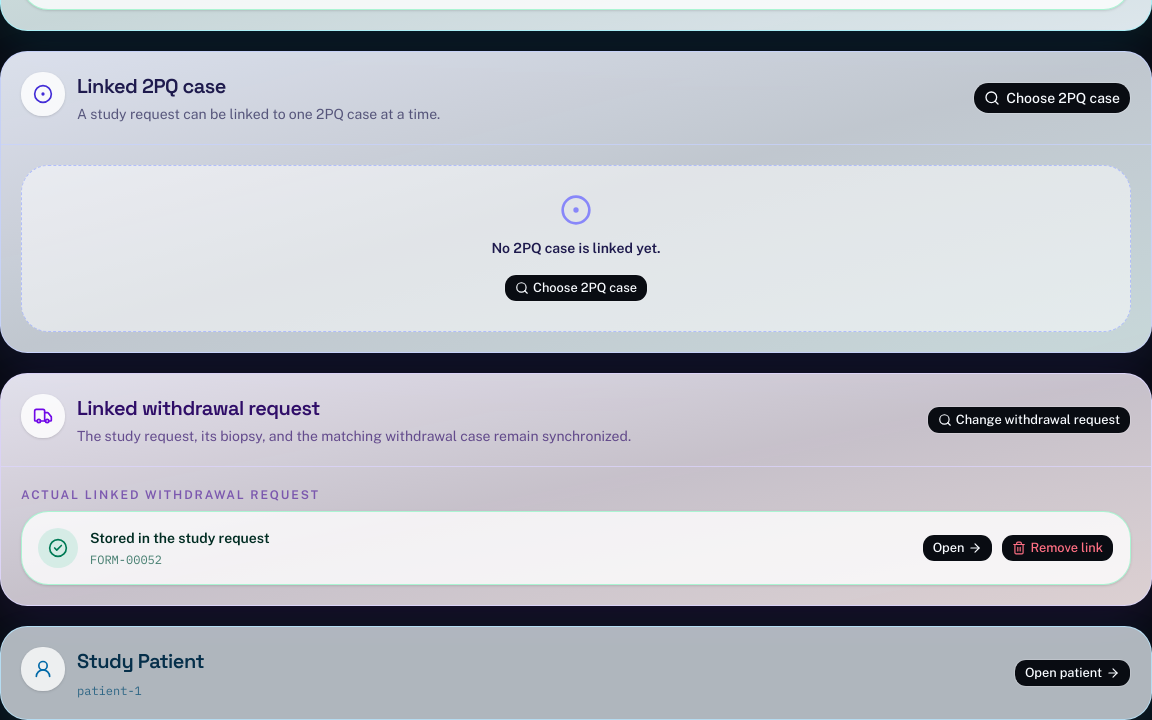
Test: TwoPQFormDetail › can unlink the withdrawal request from its dedicated block
The width and height of the screenshot is (1152, 720).
(page scrolled)
Check: the element "Linked withdrawal request" is shown, box [0,373,1151,606]
Click the button "Remove link". click: click(1058, 548)
box: [1001,534,1114,562]
(page scrolled)
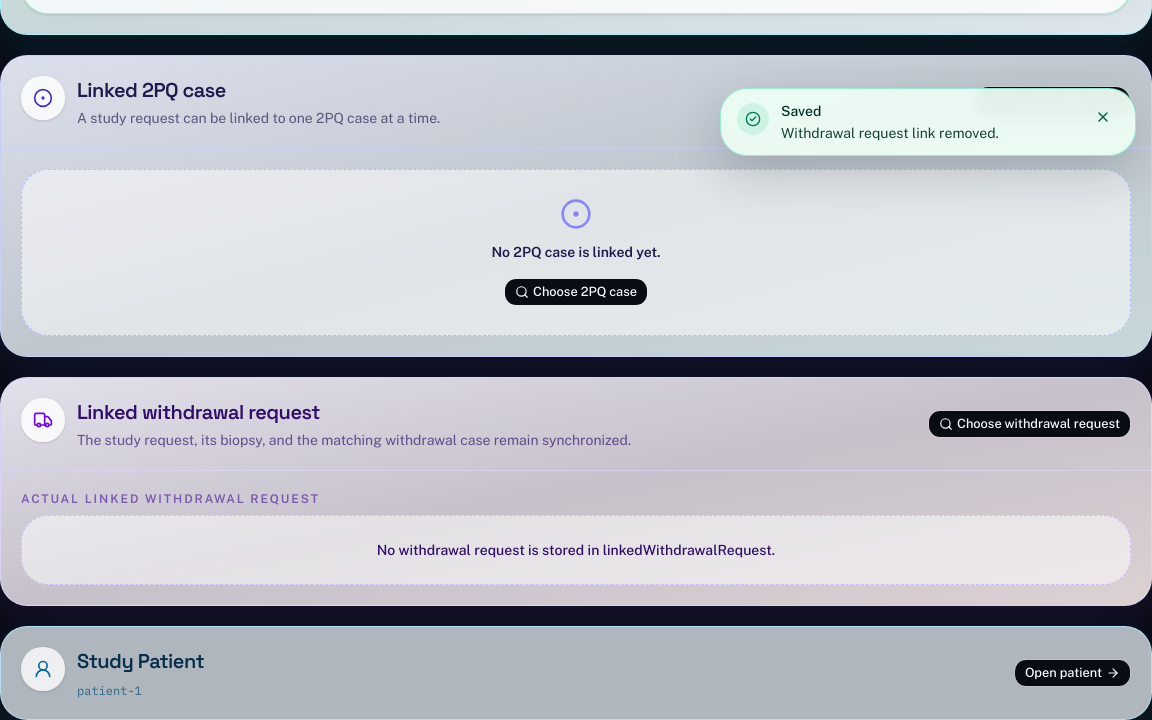
Check: the text "No withdrawal request is stored in linkedWithdrawalRequest." is shown, box [377,542,775,558]
